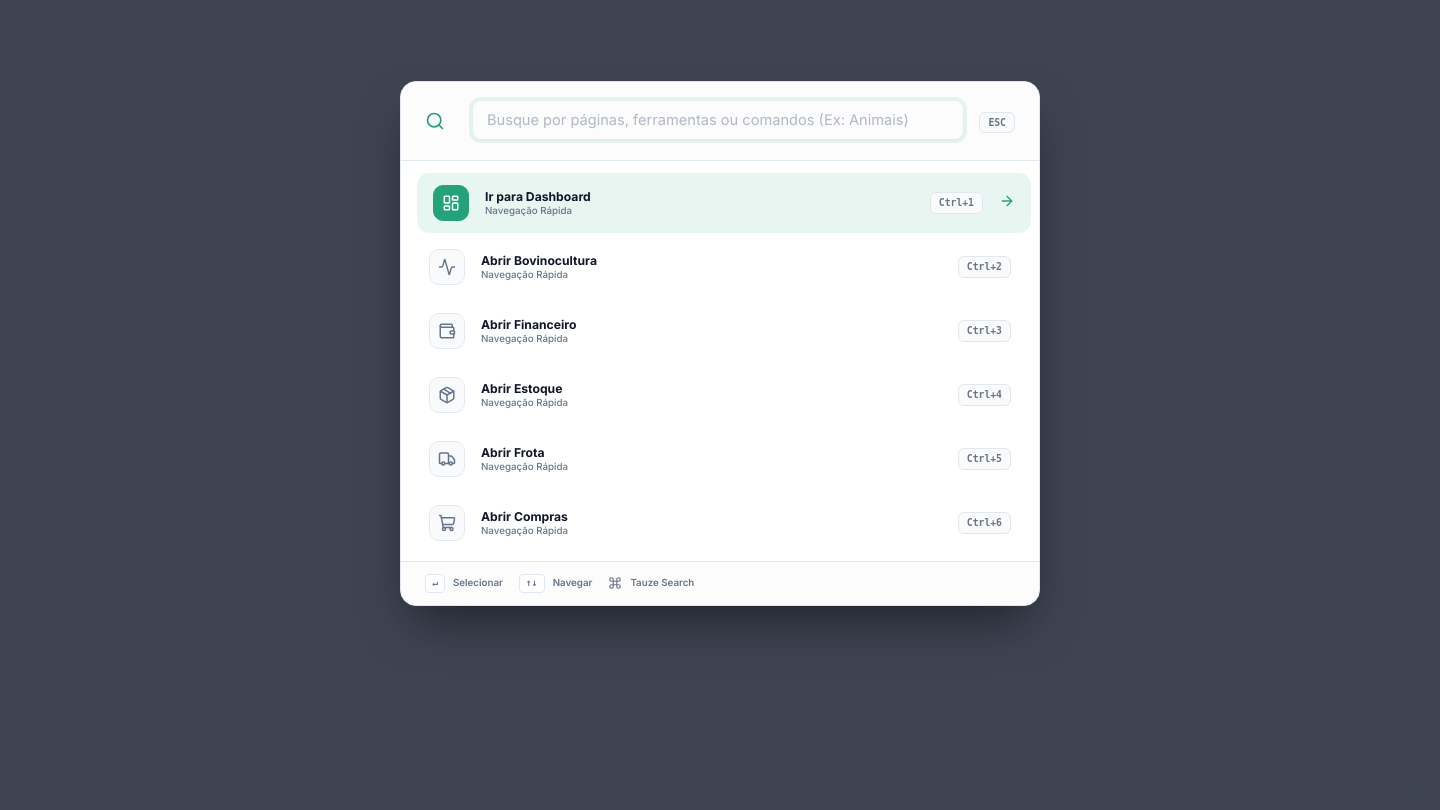
Test: CommandPalette › Fuzzy Search › should show no results message when nothing matches
In the field with placeholder "Busque por páginas, ferramentas ou comandos (Ex: Animais)": (718, 120) [473,101,963,139], type "xyzabc123nonexistent"
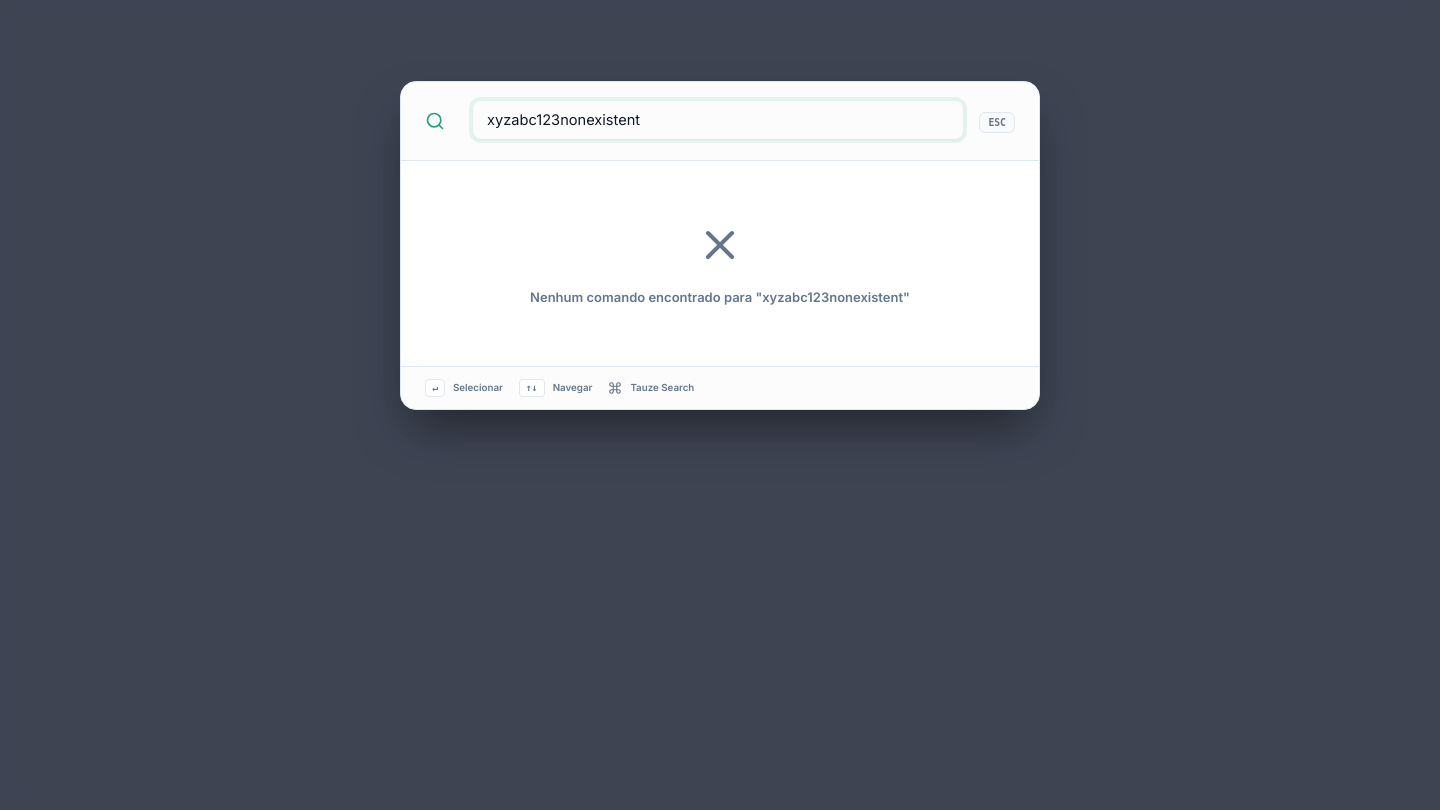
expect the text "Nenhum comando encontrado para \"xyzabc123nonexistent\"" is shown: met, box [530,289,910,305]
